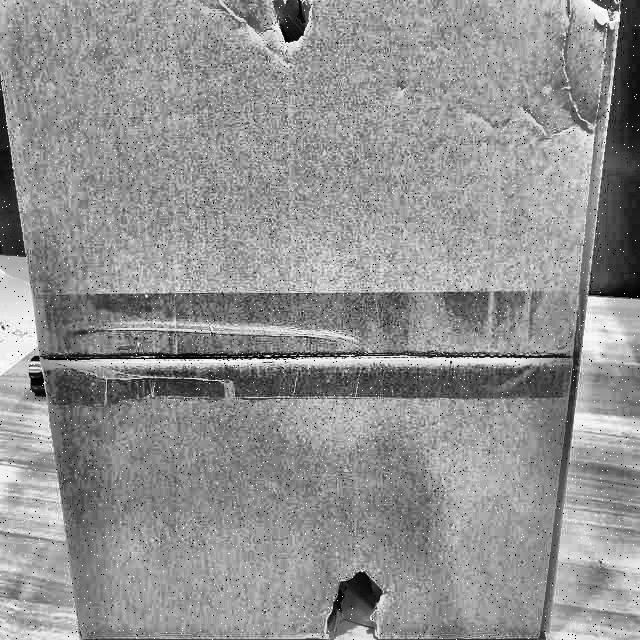box: (1, 0, 625, 639)
hole: (322, 568, 390, 640), (265, 1, 315, 47)
